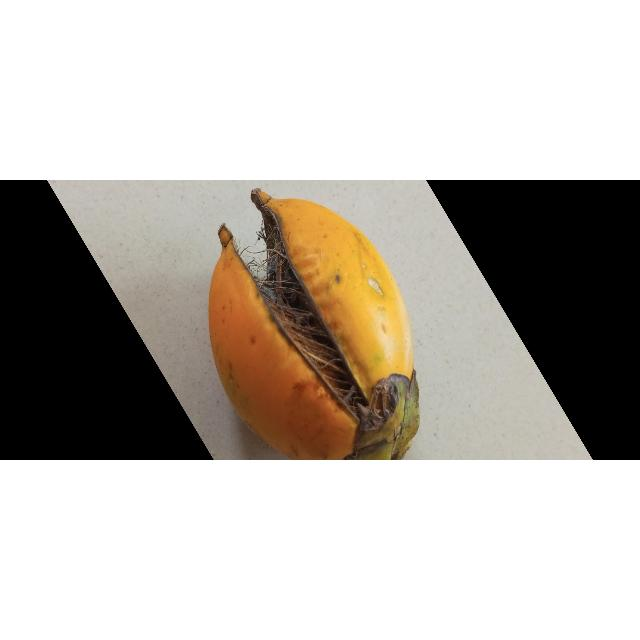damaged: (209, 189, 419, 461)
